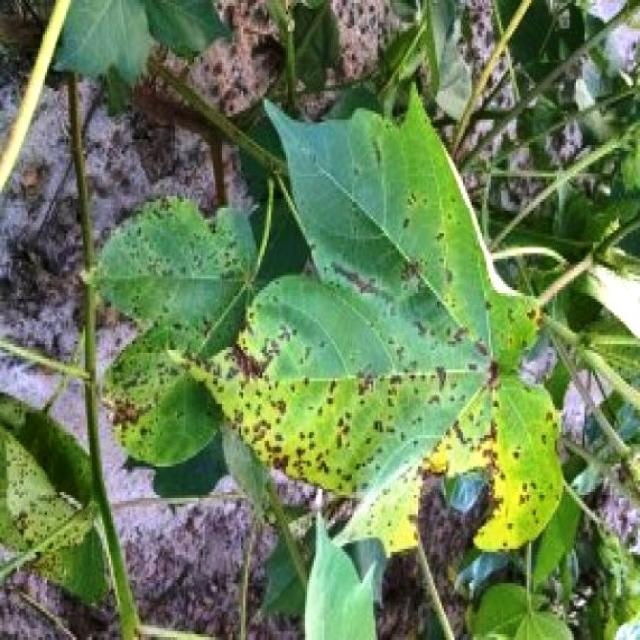Bacterial Blight: (240, 321, 472, 487)
